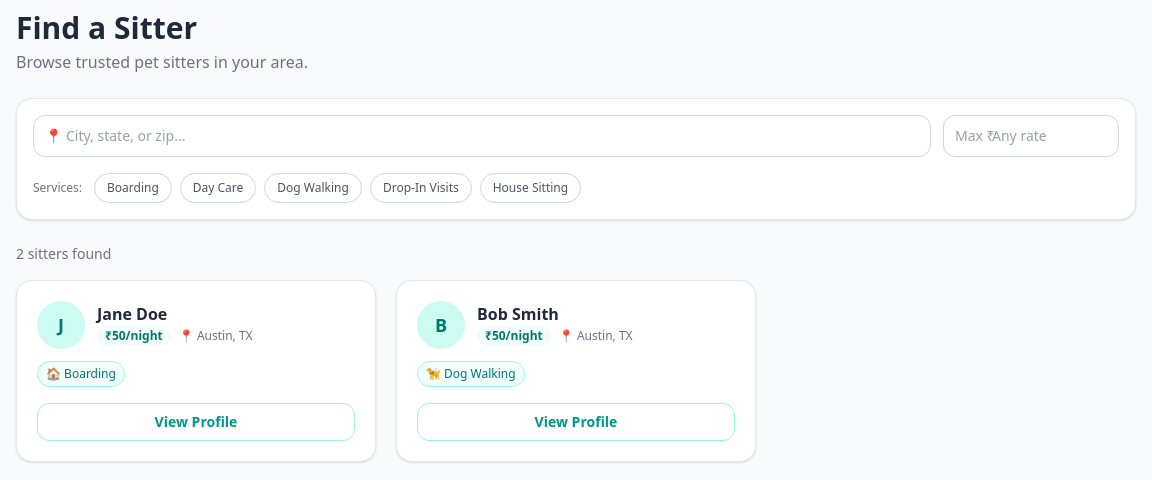
SearchPage › service chip toggles and filters sitters
expect the text "2 sitters found" is shown: met, box [16,244,111,263]
Click the button "Boarding": (133, 188) [94,173,172,203]
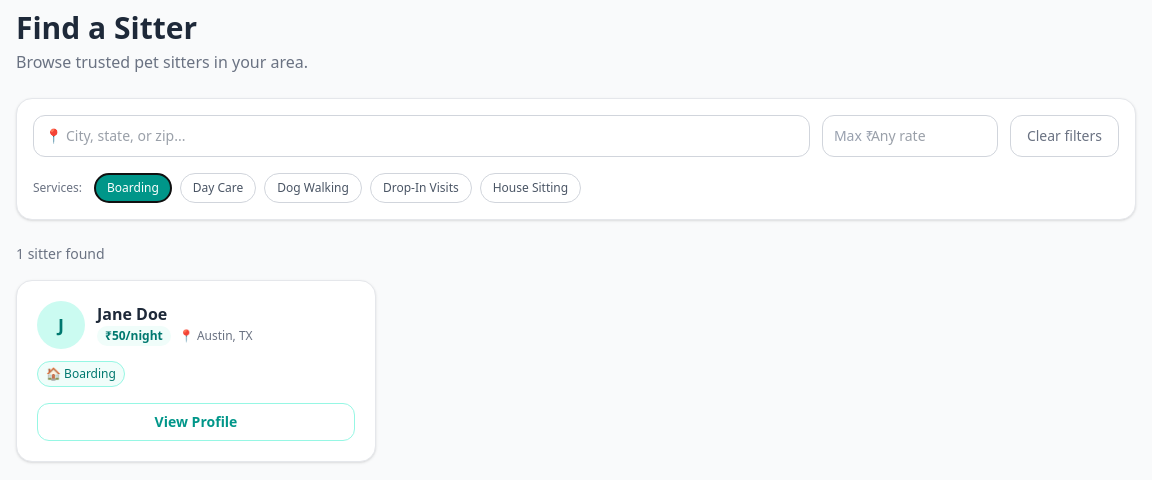
expect the text "Jane Doe" is shown: met, box [97,303,167,325]
expect the text "1 sitter found" is shown: met, box [16,244,105,263]
expect the text "Bob Smith" is gone: met
